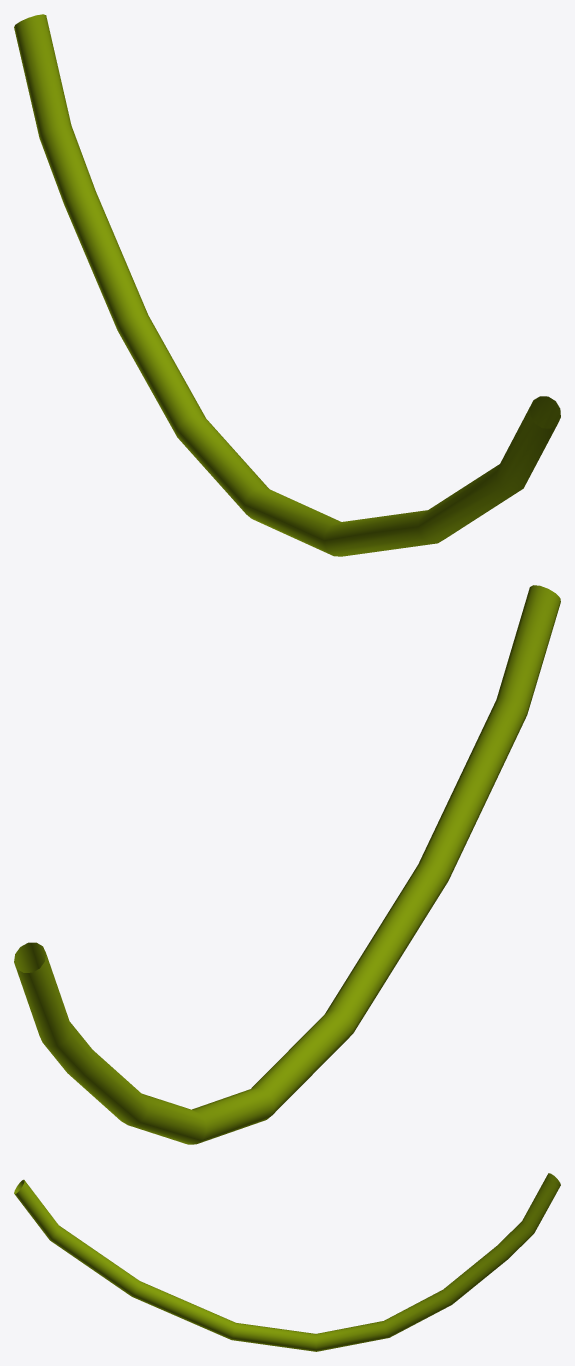
File: SM_Cable3.fbx
3 renders of one model, top to bottom at view 1: azimuth 30°, elevation 25°; view 2: azimuth 150°, elevation 25°; view 3: azimuth 270°, elevation 25°, orthographic. The views are drawn at different scales.
Parts seen in each view (by area): view 1: Cable3; view 2: Cable3; view 3: Cable3.
Part boxes in pixels (bbox=[...]): Cable3: bbox=[14, 14, 560, 556]; Cable3: bbox=[14, 585, 560, 1144]; Cable3: bbox=[14, 1173, 560, 1351].
Size of the model in its own units: 2 by 21.81 by 61.12.
